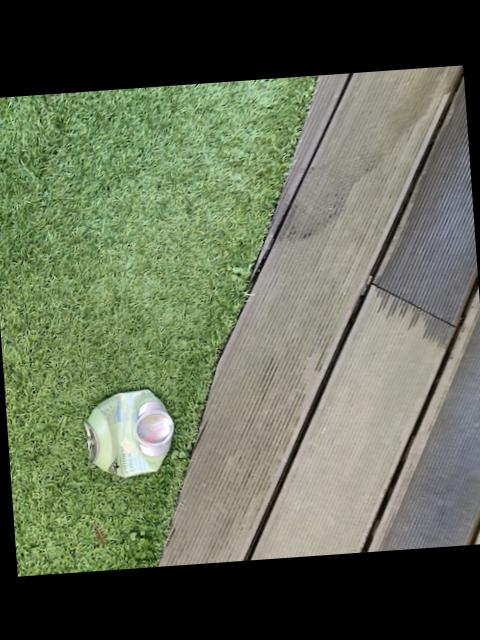metal: (86, 387, 175, 474)
